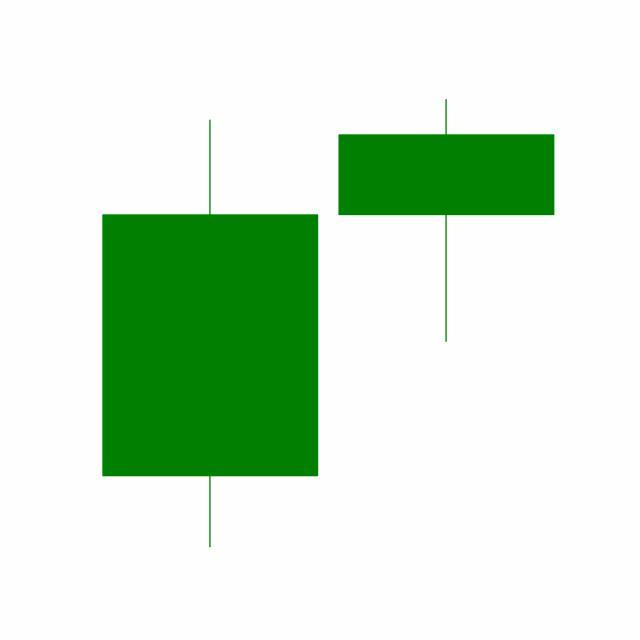Hanging Man: (328, 97, 566, 346)
